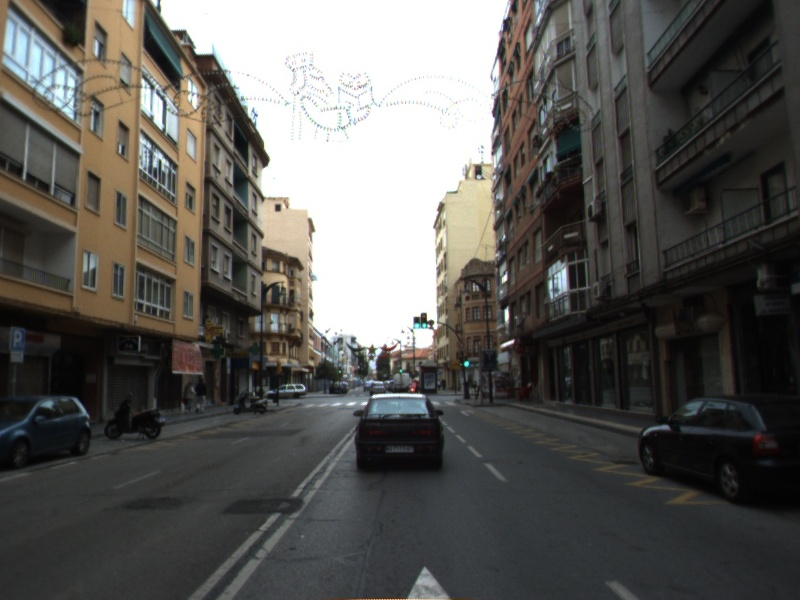RIGHT: (458, 408, 476, 418)
